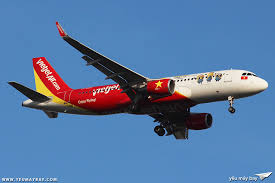maybay_dansu: (18, 27, 268, 141)
